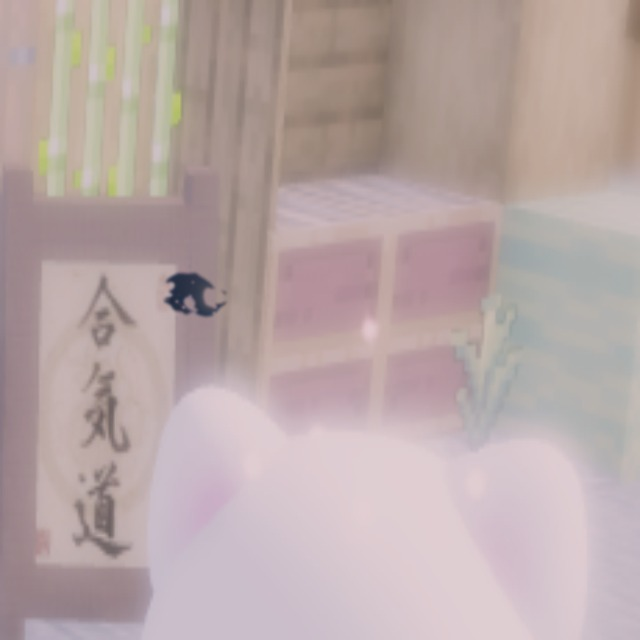urso_preto: (145, 251, 243, 339)
